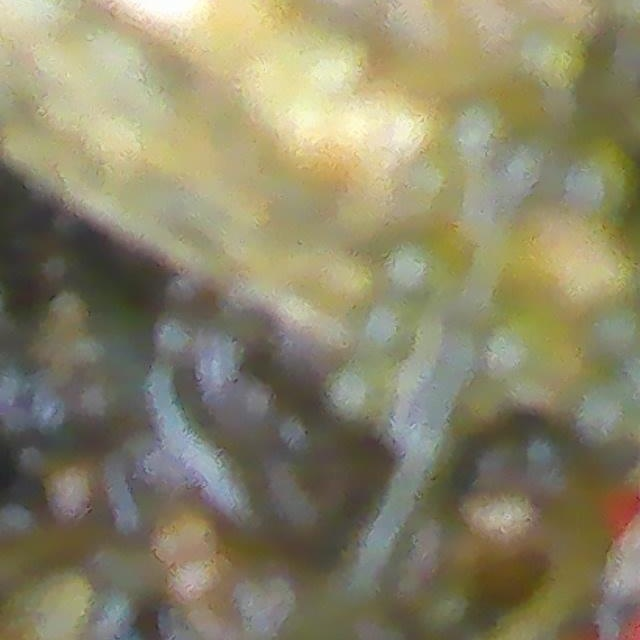SeaGrape: (474, 304, 588, 411), (554, 129, 640, 228), (392, 147, 471, 227), (513, 25, 591, 93), (385, 243, 461, 311), (354, 301, 428, 361), (583, 295, 640, 367), (324, 366, 391, 427)
